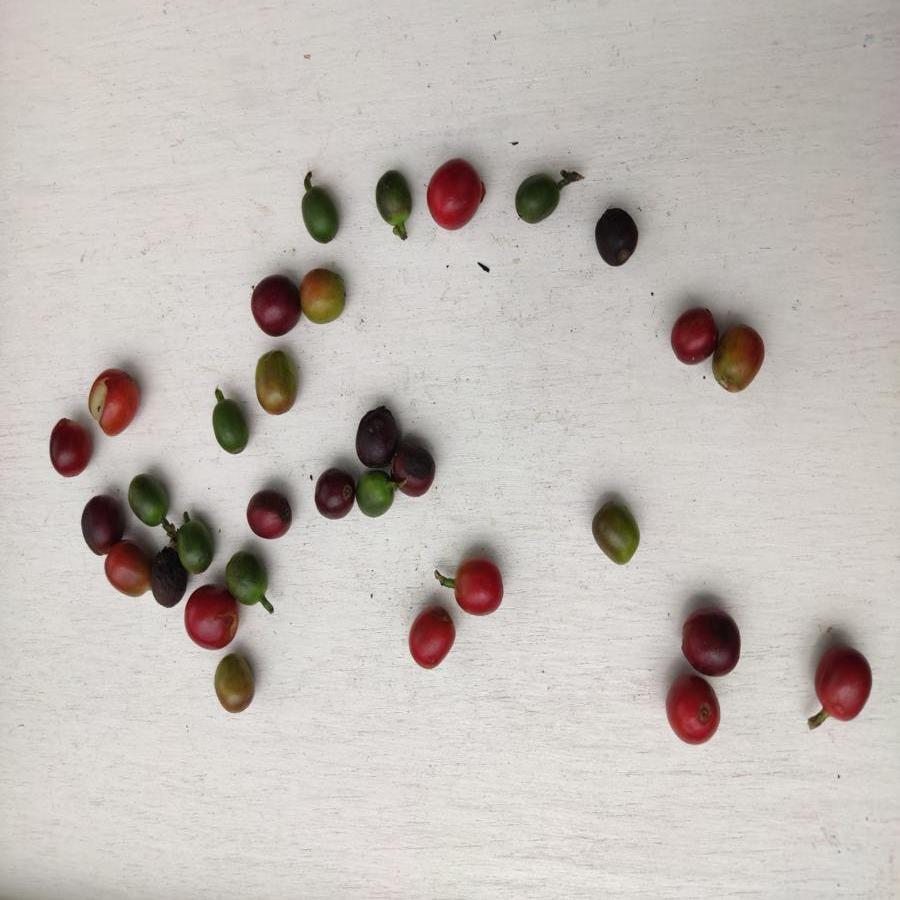Inmaduro: (297, 183, 347, 243), (370, 167, 415, 228), (126, 467, 171, 525), (172, 515, 217, 573), (515, 173, 563, 225), (228, 550, 268, 610), (213, 394, 251, 456), (355, 472, 396, 515)
Maduro: (808, 643, 872, 725), (423, 156, 486, 228), (665, 674, 722, 747), (183, 585, 241, 648), (87, 366, 138, 436), (45, 410, 93, 480), (456, 556, 507, 619), (408, 605, 456, 670), (669, 308, 716, 366)
Pinton: (715, 321, 767, 391), (209, 648, 259, 720), (588, 500, 644, 564), (250, 351, 301, 416), (299, 264, 350, 326), (99, 543, 150, 599)
Sobremaduro: (674, 604, 743, 678), (248, 271, 300, 337), (591, 206, 642, 267), (353, 406, 400, 470), (75, 493, 126, 549), (246, 487, 296, 544), (392, 444, 436, 494), (312, 469, 354, 520), (149, 553, 183, 607)
